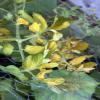Tomato leaf yellow virus: (33, 72, 99, 99), (4, 64, 30, 87), (22, 49, 44, 71), (28, 22, 47, 35)
